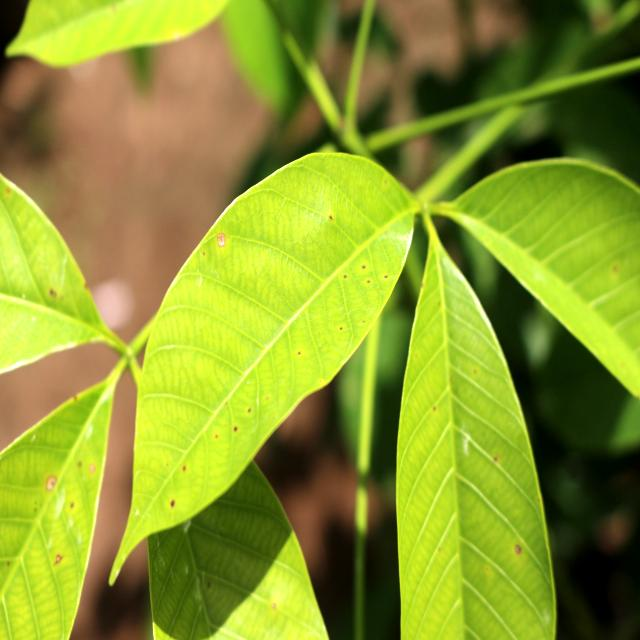Colletotrichum: (217, 234, 226, 247)
